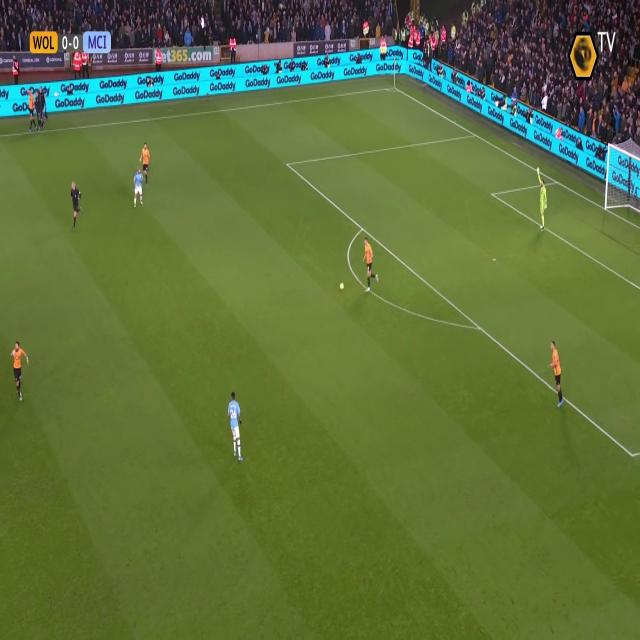ball: (338, 281, 347, 293)
team1: (544, 332, 566, 418), (13, 342, 29, 402), (359, 237, 376, 290), (141, 141, 151, 182)
team2: (226, 392, 244, 463), (133, 168, 147, 208)
